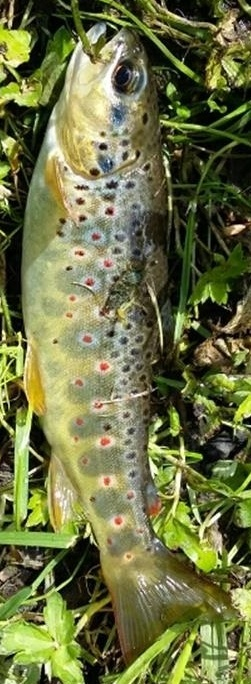Salmo trutta subsp. fario: (20, 20, 231, 664)
